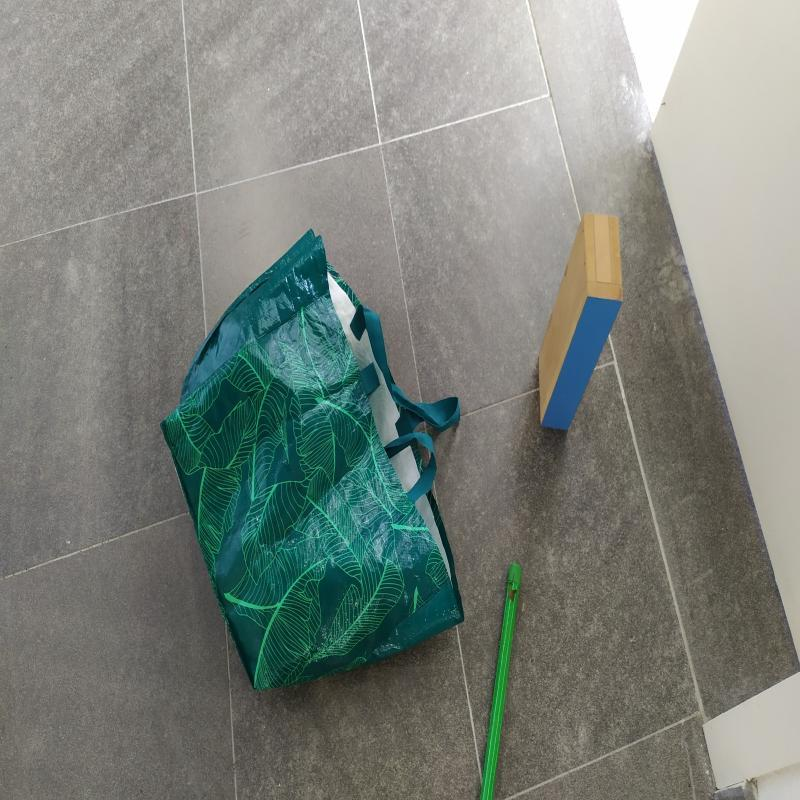Bag: (165, 235, 466, 703)
